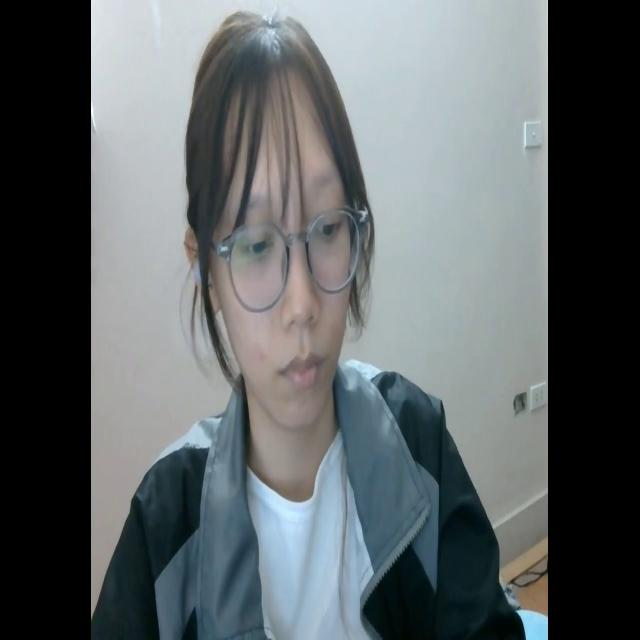student: (101, 15, 523, 640)
